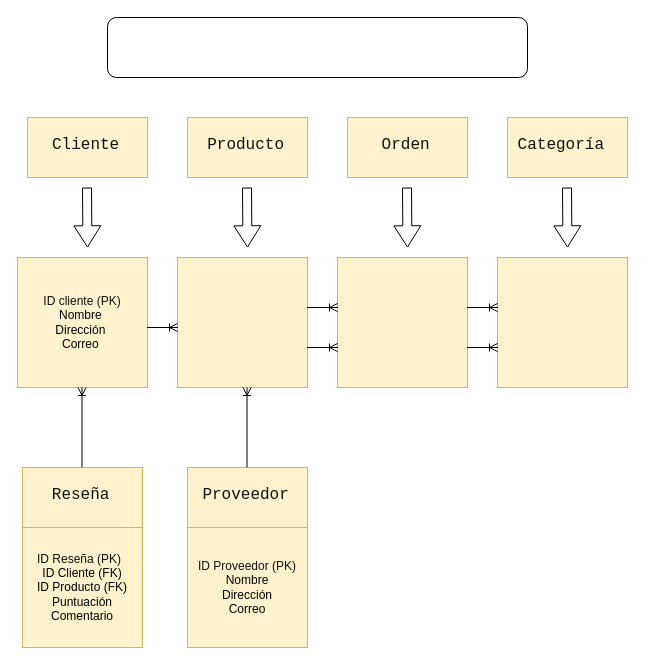
Some shapes in this 663 by 665 pixel diagram are drawn without their labels. The shapes that lost their labels are listed below. From the top down, each one's centre as x and y in pixels, then its label:
At point (317, 47): "ER DE TIENDA ONLINE".
At point (242, 322): "ID Producto (PK) Nombre Precio Descripción ID Categoría (FK) ID Proveedor (FK)".
At point (402, 322): "ID Orden (PK) Fecha ID Cliente (FK) ID Producto (FK)".
At point (562, 322): "ID Categoría (PK) Nombre".
